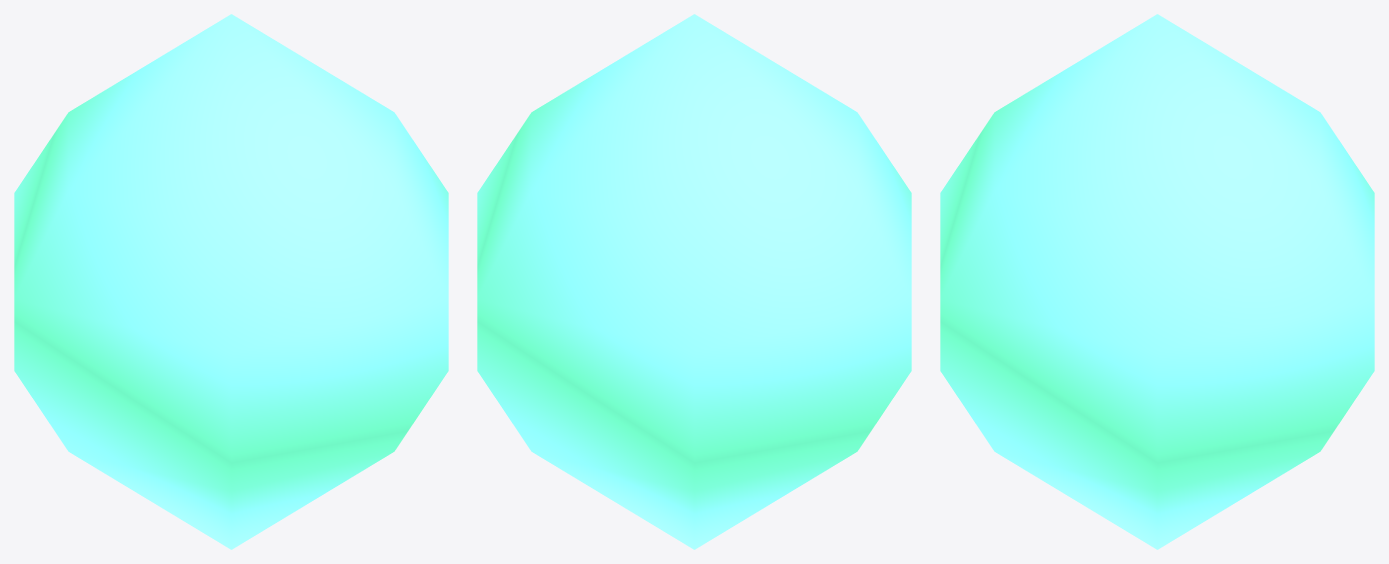
The model's file is signal-marker.glb.
3 renders of one model, left to right at view 1: azimuth 30°, elevation 25°; view 2: azimuth 150°, elevation 25°; view 3: azimuth 270°, elevation 25°, orthographic.
Visible parts, largest first — view 1: SignalMarker; view 2: SignalMarker; view 3: SignalMarker.
Part boxes in pixels (x1,y1,x2,y2): SignalMarker: (14, 14, 448, 549); SignalMarker: (477, 14, 911, 549); SignalMarker: (940, 14, 1374, 549).
Bounding box in the file's own units: 0.28 × 0.33 × 0.2425.
